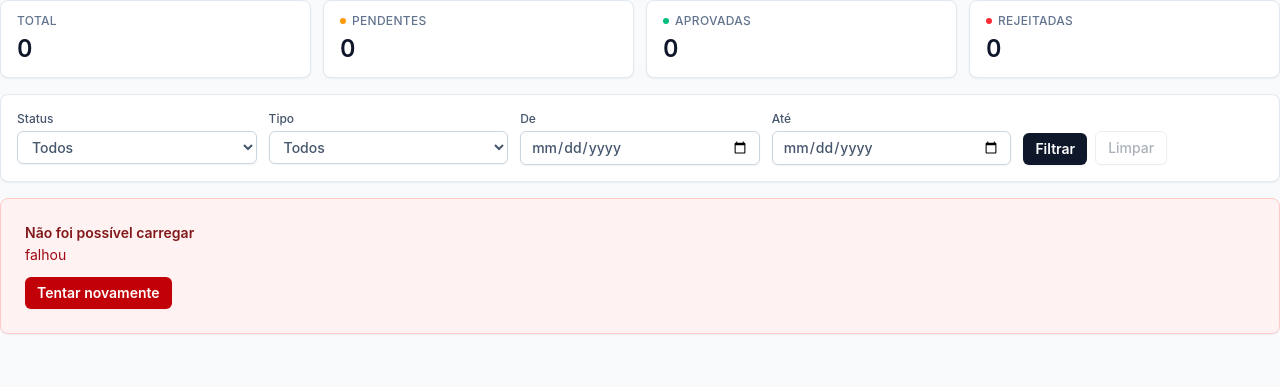
Test: estado de erro › recarrega ao clicar em tentar novamente
Click the button "Tentar novamente": click(98, 293) [25,277,172,309]
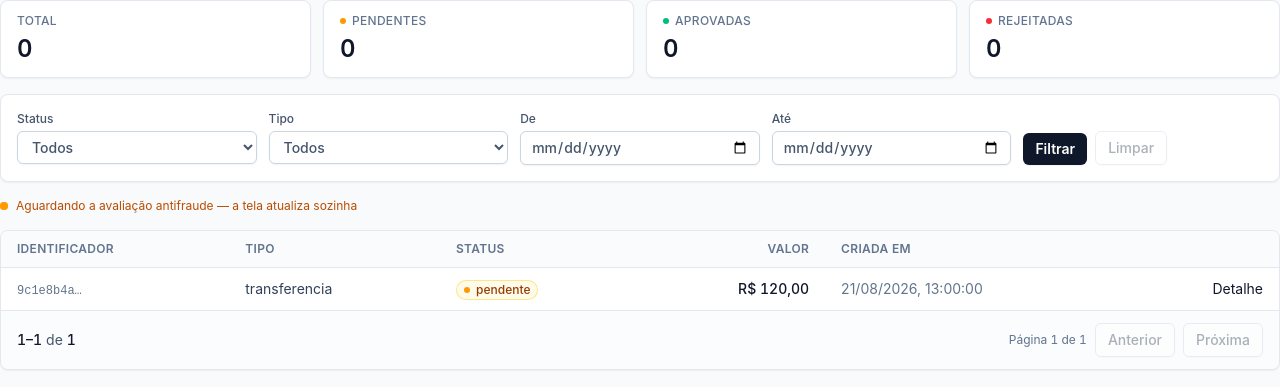
Check: the table is shown, box [1,231,1279,310]
